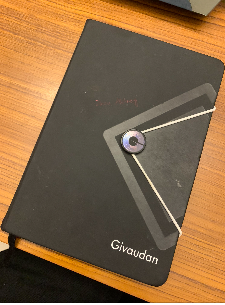object_name: (44, 20, 187, 281)
